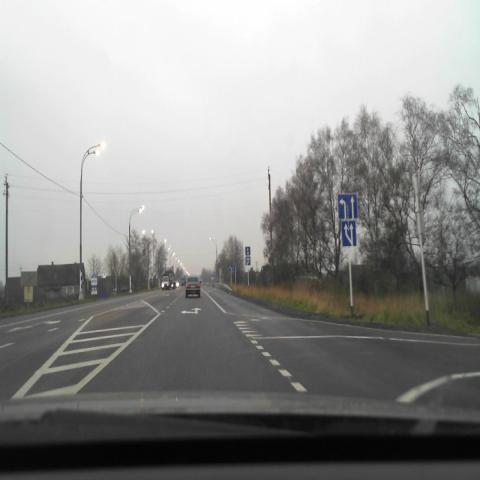5_15_2_2: (338, 194, 358, 220)
